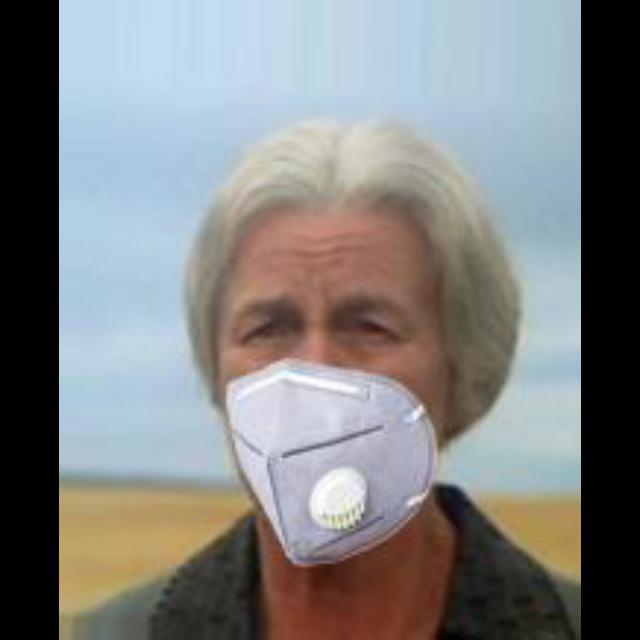suspicion: (169, 190, 503, 552)
